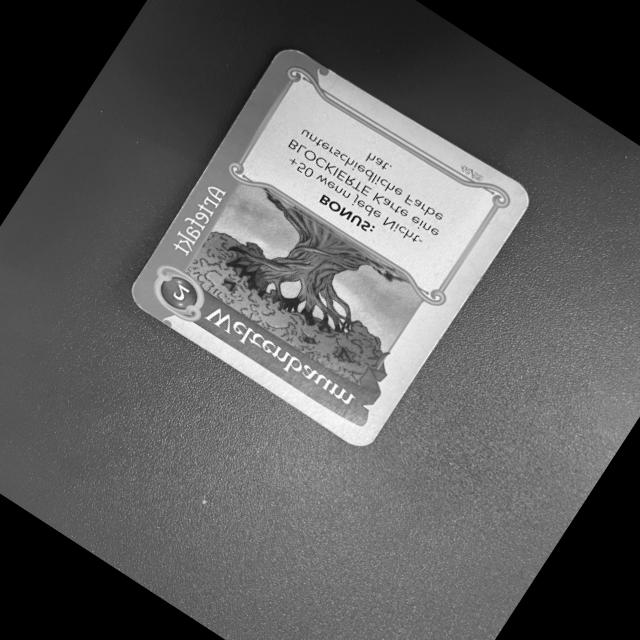World Tree: (114, 32, 536, 459)
